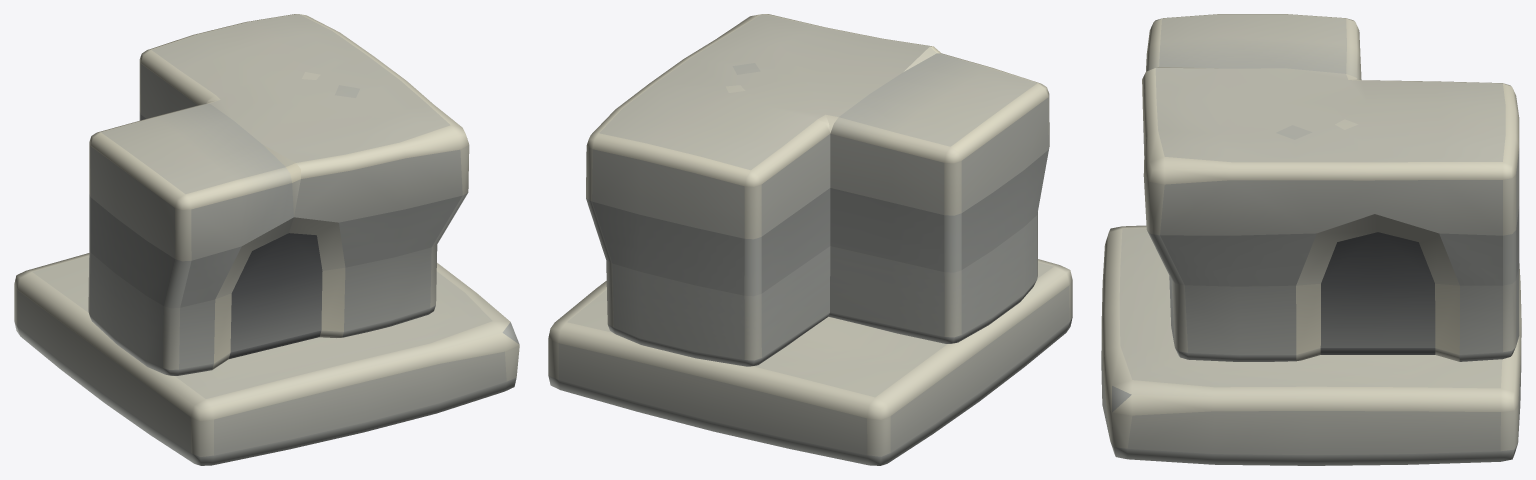
Rendered from ballustrade_ornate1_corner_conv_LOD_setup.fbx.
3 renders of one model, left to right at view 1: azimuth 30°, elevation 25°; view 2: azimuth 150°, elevation 25°; view 3: azimuth 270°, elevation 25°, orthographic. The views are drawn at different scales.
Parts seen in each view (by area): view 1: ballustrade_ornate1_corner_conv_LOD0; view 2: ballustrade_ornate1_corner_conv_LOD0; view 3: ballustrade_ornate1_corner_conv_LOD0.
Boxes of the visible parts, bbox=[...] form: ballustrade_ornate1_corner_conv_LOD0: bbox=[14, 14, 519, 465]; ballustrade_ornate1_corner_conv_LOD0: bbox=[548, 14, 1072, 465]; ballustrade_ornate1_corner_conv_LOD0: bbox=[1101, 14, 1521, 465].
Size of what is drawn, in the model's own units: 158 by 122 by 158.
